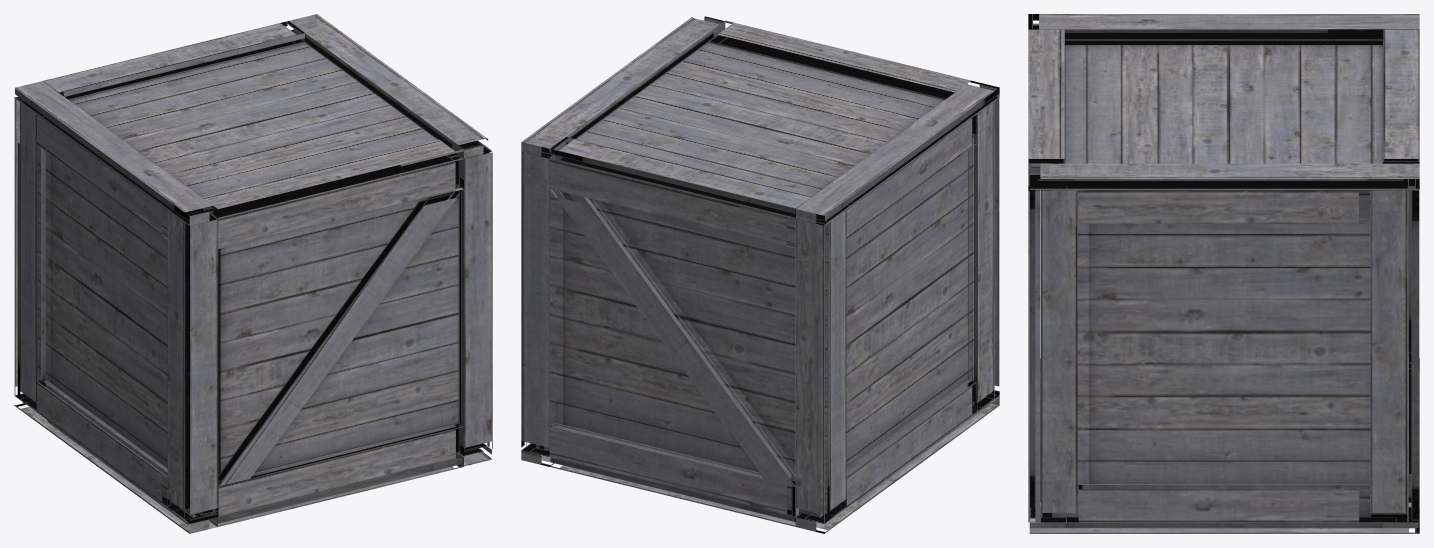
3 views of the same model, side by side, from view 1: azimuth 30°, elevation 25°; view 2: azimuth 150°, elevation 25°; view 3: azimuth 270°, elevation 25° (orthographic). The views are drawn at different scales.
Visible parts, largest first — view 1: box; view 2: box; view 3: box.
Part boxes in pixels (box(x1,y1,x2,y2)): box: box(14, 14, 492, 533); box: box(521, 16, 999, 533); box: box(1028, 14, 1419, 533).
Size of the model in its own units: 49.97 by 50.05 by 50.03.
Materials: 1 (1 with a texture image).
